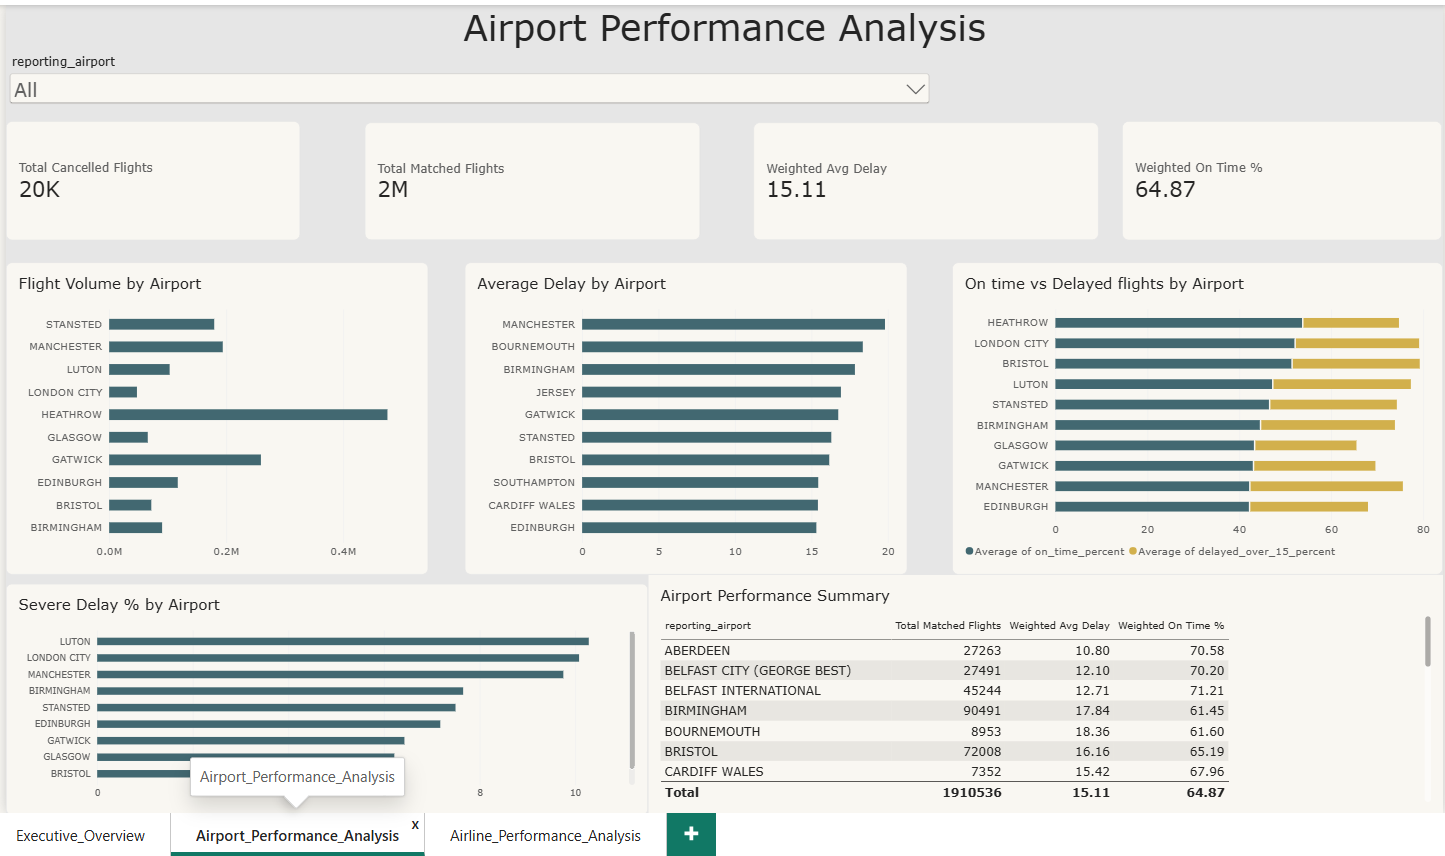

This screenshot's page, from the dashboard's own definition file:
{"tool":"powerbi","page":{"name":"Airport_Performance_Analysis","canvas":[1920,1080],"ordinal":1},"visuals":[{"type":"slicer","fields":{"Values":["caa_2025_punctuality_clean.reporting_airport"]},"box":[0,64.9,1238.7,89.9],"z":0},{"type":"textbox","box":[0,0,1919.6,64.9],"z":1000},{"type":"cardVisual","fields":{"Data":["caa_2025_punctuality_clean.Total Cancelled Flights"]},"box":[0,155.3,393.6,159.6],"z":2000},{"type":"cardVisual","fields":{"Data":["caa_2025_punctuality_clean.Weighted Avg Delay"]},"box":[997.9,157.4,461.7,157.4],"z":3000},{"type":"cardVisual","fields":{"Data":["caa_2025_punctuality_clean.Weighted On Time %"]},"box":[1491.5,155.3,427.7,159.6],"z":4000},{"type":"cardVisual","fields":{"Data":["caa_2025_punctuality_clean.Total Matched Flights"]},"box":[478.7,157.4,448.9,157.4],"z":5000},{"type":"clusteredBarChart","title":"Flight Volume by Airport","fields":{"Category":["caa_2025_punctuality_clean.reporting_airport"],"Y":["caa_2025_punctuality_clean.Total Matched Flights"]},"box":[0,344.7,563.8,417],"z":6000},{"type":"barChart","title":"On time vs Delayed flights by Airport","fields":{"Category":["caa_2025_punctuality_clean.reporting_airport"],"Y":["Avg(caa_2025_punctuality_clean.on_time_percent)","Avg(caa_2025_punctuality_clean.delayed_over_15_percent)"]},"box":[1263.8,344.7,655.3,417],"z":7000},{"type":"clusteredBarChart","title":"Average Delay by Airport","fields":{"Category":["caa_2025_punctuality_clean.reporting_airport"],"Y":["caa_2025_punctuality_clean.Weighted Avg Delay"]},"box":[612.8,344.7,591.5,417],"z":8000},{"type":"clusteredBarChart","title":"Severe Delay % by Airport","fields":{"Category":["caa_2025_punctuality_clean.reporting_airport"],"Y":["Avg(caa_2025_punctuality_clean.severe_delay_percent)"]},"box":[0,772.3,857.4,308.5],"z":9000},{"type":"tableEx","title":"Airport Performance Summary","fields":{"Values":["caa_2025_punctuality_clean.reporting_airport","caa_2025_punctuality_clean.Total Matched Flights","caa_2025_punctuality_clean.Weighted Avg Delay","caa_2025_punctuality_clean.Weighted On Time %"]},"box":[857.4,761.7,1061.7,319.1],"z":10000}]}

Visuals, with their boxes on the page's 1920x1080 design canvas (x1, y1, x2, y2). These are canvas units, not pixel positions in the 1445x856 screenshot, which may show the page scaled, cropped or inside an application window:
slicer - caa_2025_punctuality_clean.reporting_airport: (0, 65, 1239, 155)
textbox: (0, 0, 1920, 65)
cardVisual - caa_2025_punctuality_clean.Total Cancelled Flights: (0, 155, 394, 315)
cardVisual - caa_2025_punctuality_clean.Weighted Avg Delay: (998, 157, 1460, 315)
cardVisual - caa_2025_punctuality_clean.Weighted On Time %: (1492, 155, 1919, 315)
cardVisual - caa_2025_punctuality_clean.Total Matched Flights: (479, 157, 928, 315)
"Flight Volume by Airport" clusteredBarChart: (0, 345, 564, 762)
"On time vs Delayed flights by Airport" barChart: (1264, 345, 1919, 762)
"Average Delay by Airport" clusteredBarChart: (613, 345, 1204, 762)
"Severe Delay % by Airport" clusteredBarChart: (0, 772, 857, 1081)
"Airport Performance Summary" tableEx: (857, 762, 1919, 1081)
